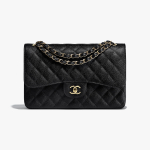channel: (20, 38, 129, 116), (88, 56, 122, 98), (39, 46, 81, 67), (64, 83, 82, 97)
